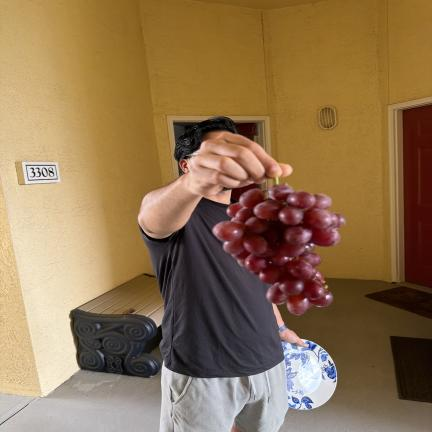grape_cluster: (212, 176, 345, 315)
